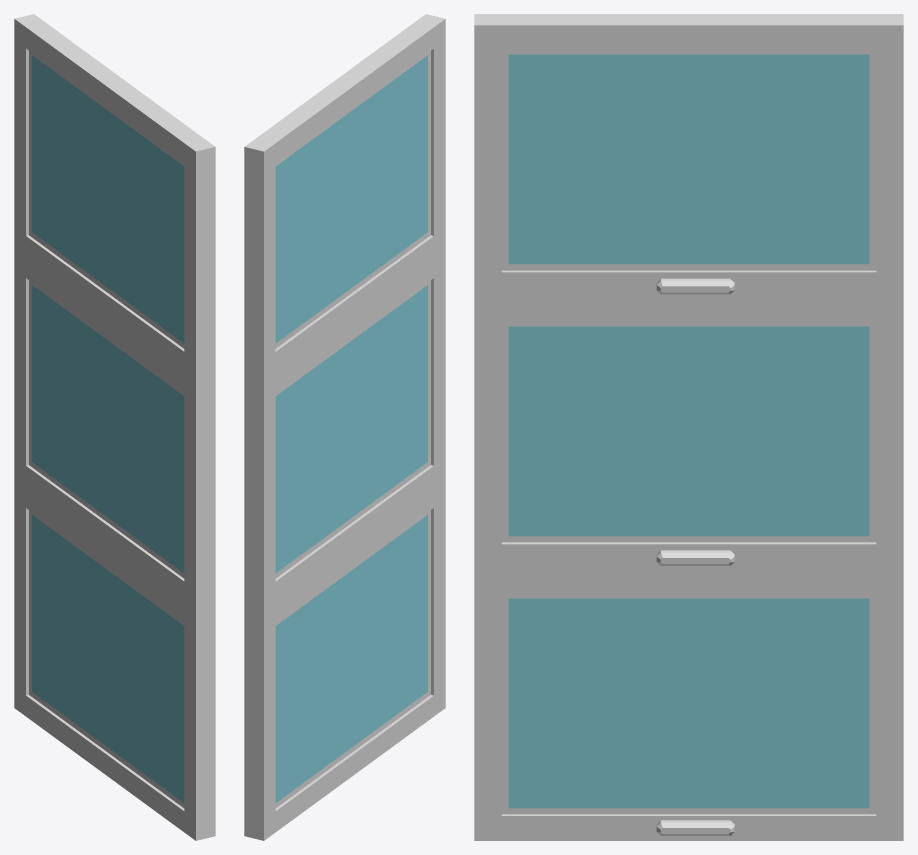
Rendered from Windows.fbx.
3 views of the same model, side by side, from view 1: azimuth 30°, elevation 25°; view 2: azimuth 150°, elevation 25°; view 3: azimuth 270°, elevation 25° (orthographic). The views are drawn at different scales.
Parts seen in each view (by area): view 1: Windows; view 2: Windows; view 3: Windows.
Boxes of the visible parts, x1=… form: Windows: x1=14, y1=14, x2=215, y2=840; Windows: x1=244, y1=14, x2=445, y2=840; Windows: x1=474, y1=14, x2=903, y2=840.
Size of the model in its own units: 0.072 by 1.8 by 0.8591.
